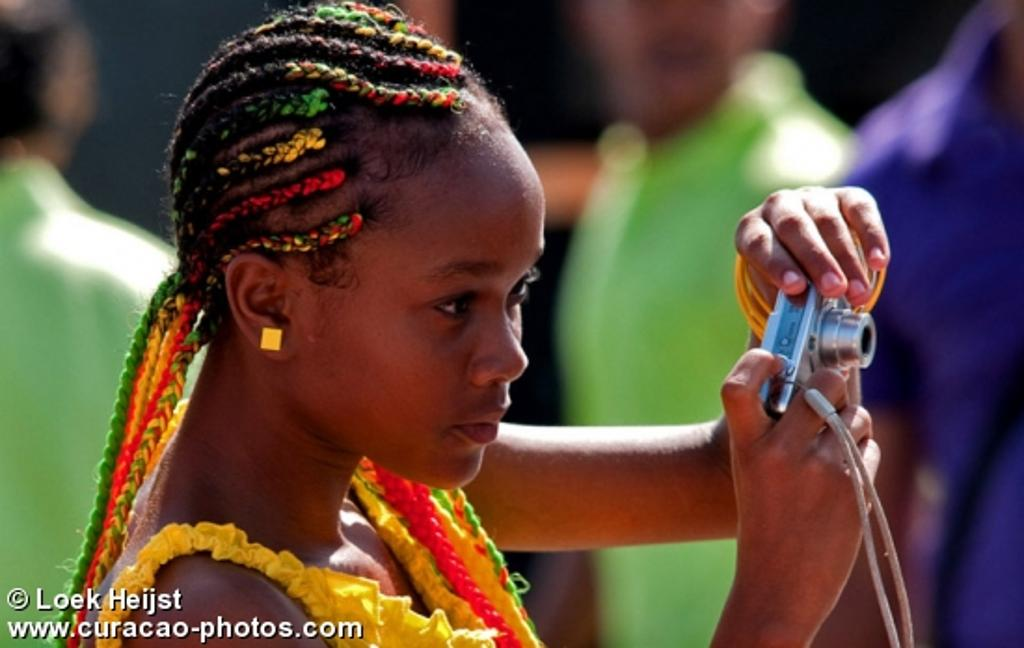face: (322, 102, 540, 490)
